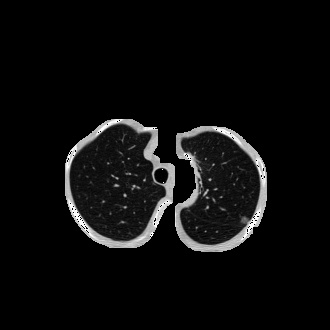PN: (240, 216, 248, 224)
